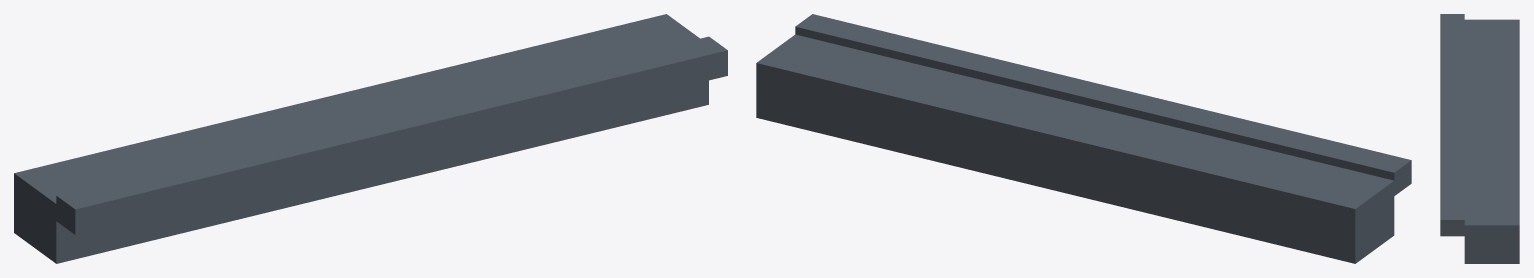
File: cw_top.glb
3 renders of one model, left to right at view 1: azimuth 30°, elevation 25°; view 2: azimuth 150°, elevation 25°; view 3: azimuth 270°, elevation 25°, orthographic. The views are drawn at different scales.
Visible parts, largest first — view 1: city_cw_top; view 2: city_cw_top; view 3: city_cw_top.
Part boxes in pixels (box(x1,y1,x2,y2)): city_cw_top: box(14, 14, 727, 263); city_cw_top: box(756, 14, 1411, 263); city_cw_top: box(1440, 14, 1519, 263).
Bounding box in the file's own units: 4 × 0.4 × 0.65.
1 material, 1 textured.
